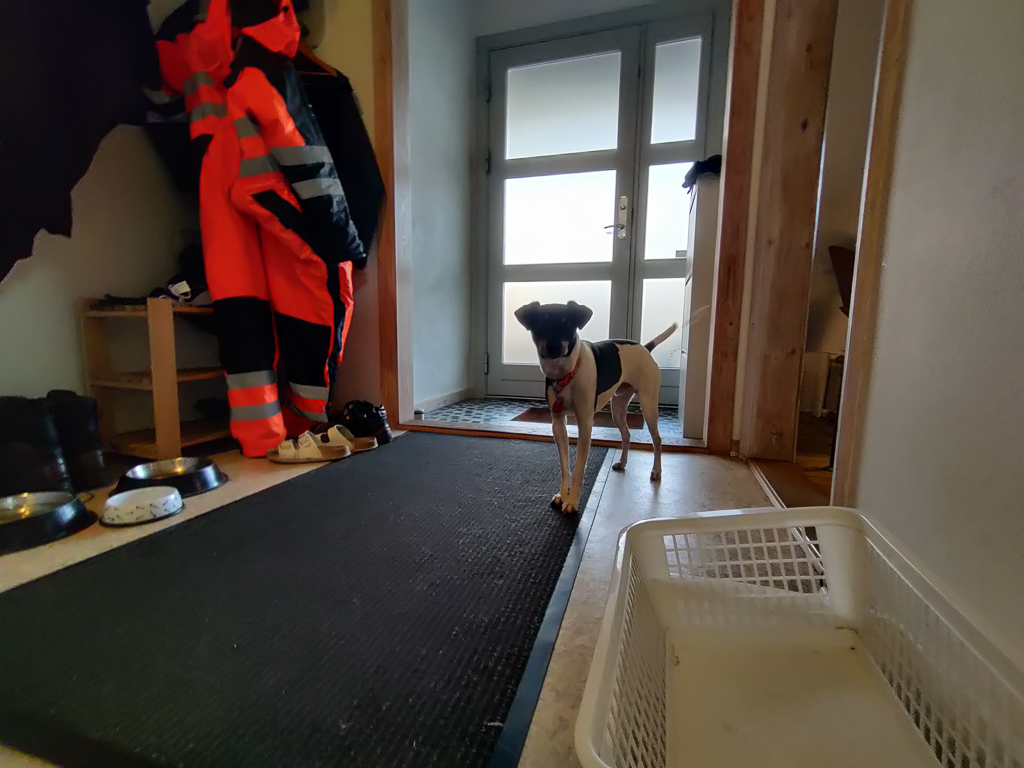Dog: (504, 282, 717, 519)
